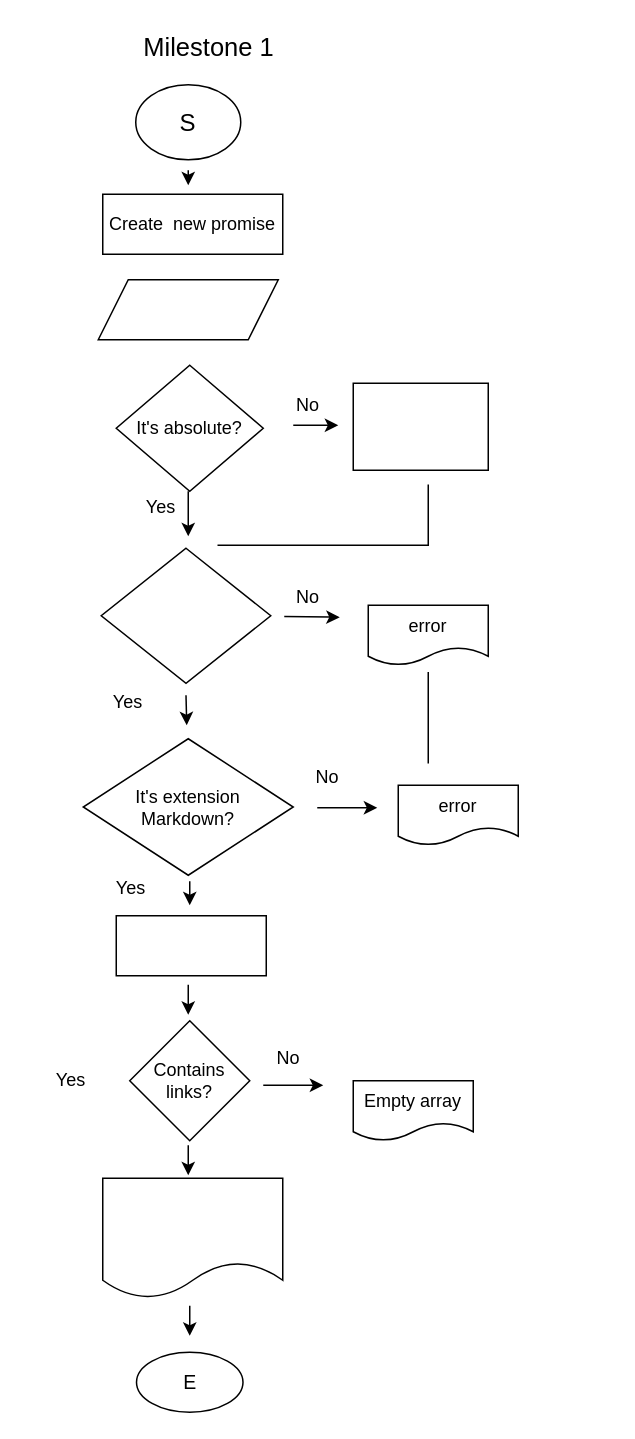
Some shapes in this 635 by 1439 pixel diagram are drawn without their labels. The shapes that lost their labels are listed below. From the top down, each one's centre as x and y in pixels, then its label:
point 187,309: Get path
point 420,426: Transform to absolute
point 185,615: It exists on file system?
point 190,945: Read file
point 192,1237: Array of objects (links): [href:, text:, file:]
